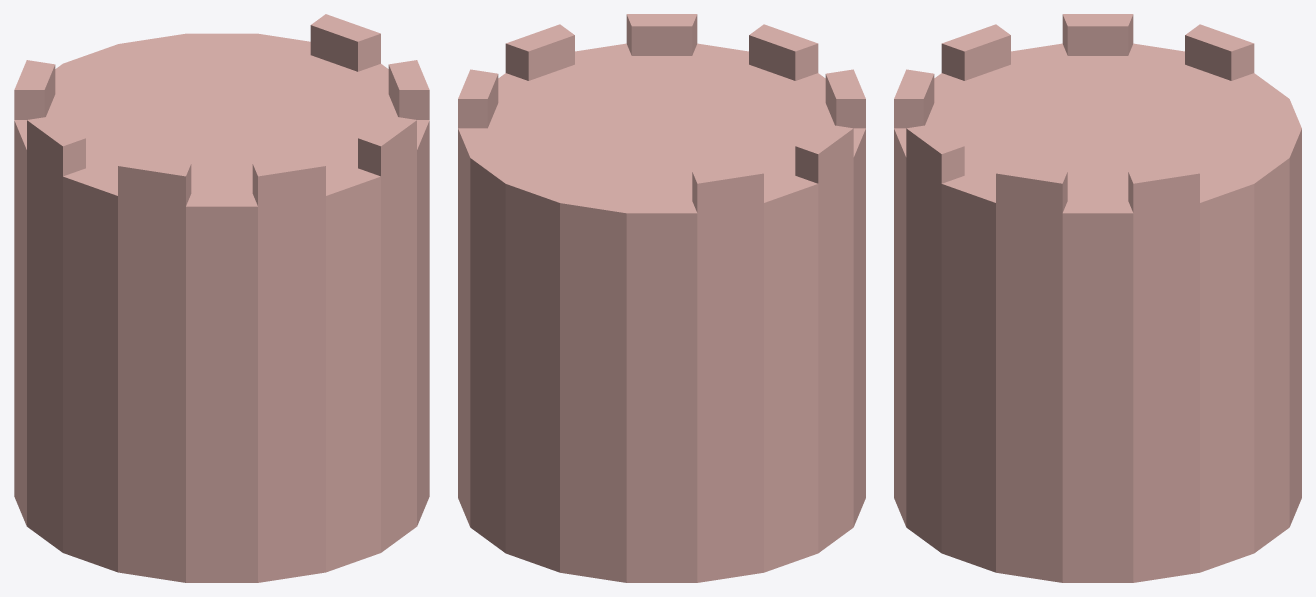
The model's file is Tower_Gridded_Broken.fbx.
The picture shows the model from 3 angles, left to right: view 1: azimuth 30°, elevation 25°; view 2: azimuth 150°, elevation 25°; view 3: azimuth 270°, elevation 25°; orthographic projection.
Parts seen in each view (by area): view 1: Tower_Broken; view 2: Tower_Broken; view 3: Tower_Broken.
Part boxes in pixels (<box>): Tower_Broken: <box>14,14,429,582</box>; Tower_Broken: <box>458,14,865,582</box>; Tower_Broken: <box>894,14,1301,582</box>.
Bounding box in the file's own units: 804 × 881 × 816.
